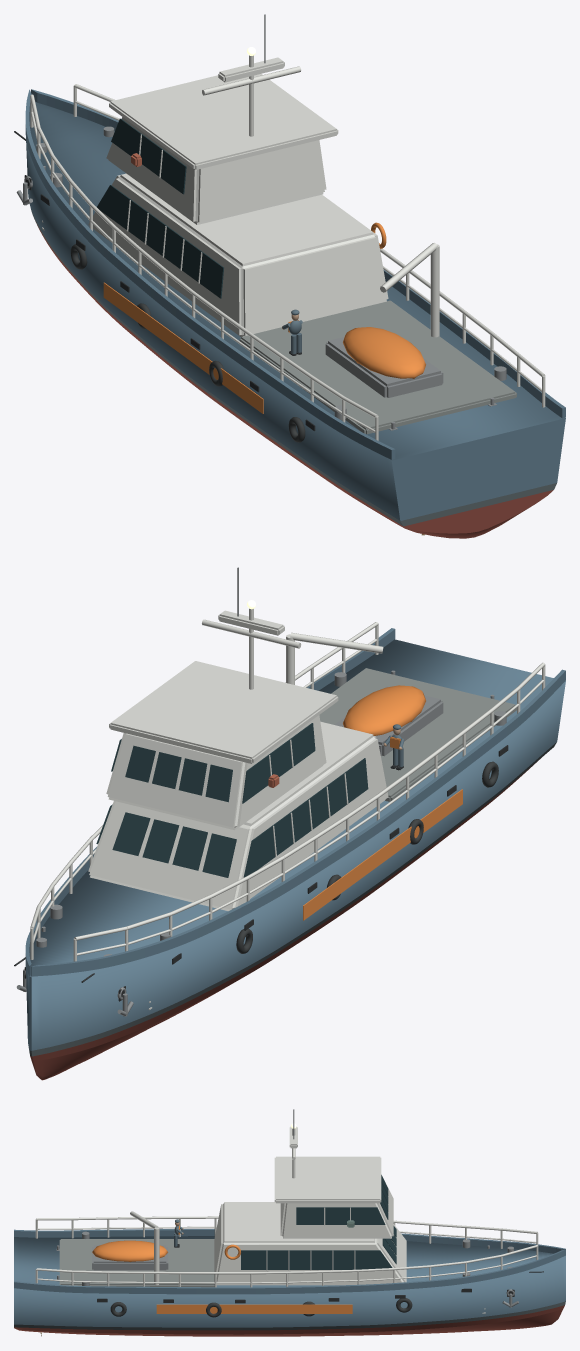
File: patrol.glb
The picture shows the model from 3 angles, top to bottom: view 1: azimuth 30°, elevation 25°; view 2: azimuth 150°, elevation 25°; view 3: azimuth 270°, elevation 25°; orthographic projection. The views are drawn at different scales.
Visible parts, largest first — view 1: white, hull, deck, window, orange, bottom, metal, stripe, rubber; view 2: hull, white, window, deck, orange, bottom, metal, stripe, rubber; view 3: hull, white, window, deck, bottom, orange, stripe, metal, rubber, black.
Part boxes in pixels (x1=…): white: x1=30, y1=55, x2=545, y2=440; hull: x1=25, y1=89, x2=565, y2=520; deck: x1=239, y1=300, x2=516, y2=434; window: x1=97, y1=118, x2=223, y2=298; orange: x1=103, y1=222, x2=425, y2=413; bottom: x1=37, y1=225, x2=553, y2=538; metal: x1=16, y1=14, x2=506, y2=430; stripe: x1=31, y1=209, x2=556, y2=526; rubber: x1=70, y1=244, x2=305, y2=442; hull: x1=25, y1=628, x2=565, y2=1050; white: x1=30, y1=608, x2=545, y2=1010; window: x1=96, y1=723, x2=368, y2=877; deck: x1=319, y1=668, x2=516, y2=801; orange: x1=303, y1=685, x2=462, y2=920; bottom: x1=30, y1=758, x2=540, y2=1080; metal: x1=16, y1=567, x2=506, y2=1016; stripe: x1=29, y1=742, x2=556, y2=1056; rubber: x1=236, y1=761, x2=498, y2=953; hull: x1=14, y1=1229, x2=565, y2=1327; white: x1=35, y1=1126, x2=538, y2=1313; window: x1=241, y1=1175, x2=396, y2=1269; deck: x1=59, y1=1239, x2=214, y2=1287; bottom: x1=14, y1=1305, x2=564, y2=1336; orange: x1=92, y1=1225, x2=352, y2=1313; stripe: x1=14, y1=1301, x2=565, y2=1330; metal: x1=56, y1=1109, x2=518, y2=1307; rubber: x1=110, y1=1298, x2=412, y2=1317; black: x1=97, y1=1244, x2=543, y2=1303.
Size of the model in its own units: 7.63 by 13.16 by 29.
